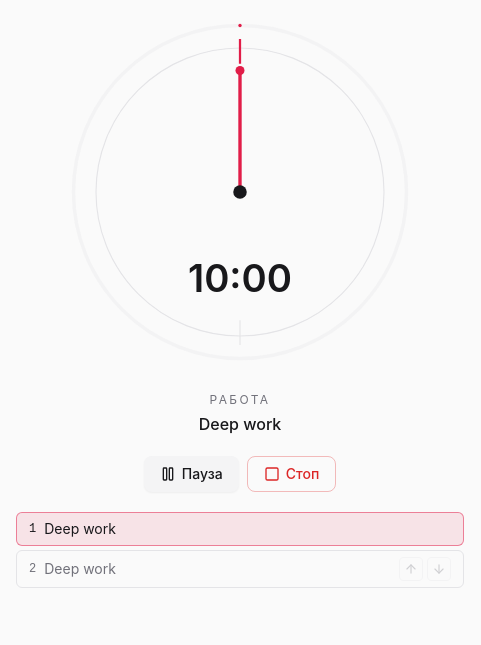
FocusScreen › pause freezes the readout and offers resume
Click the button with test id "dial.pause-button" at (191, 474), box [144,456,239,492]
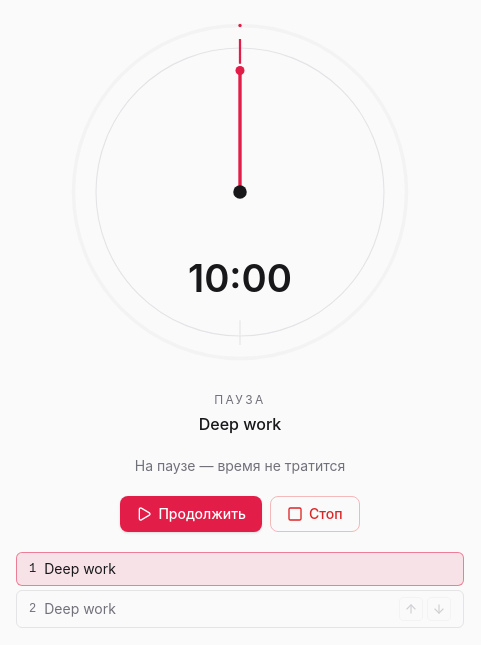
Now the button with test id "dial.resume-button" is shown, box [120,496,262,532]
Now the text "На паузе — время не тратится" is shown, box [135,456,345,476]
